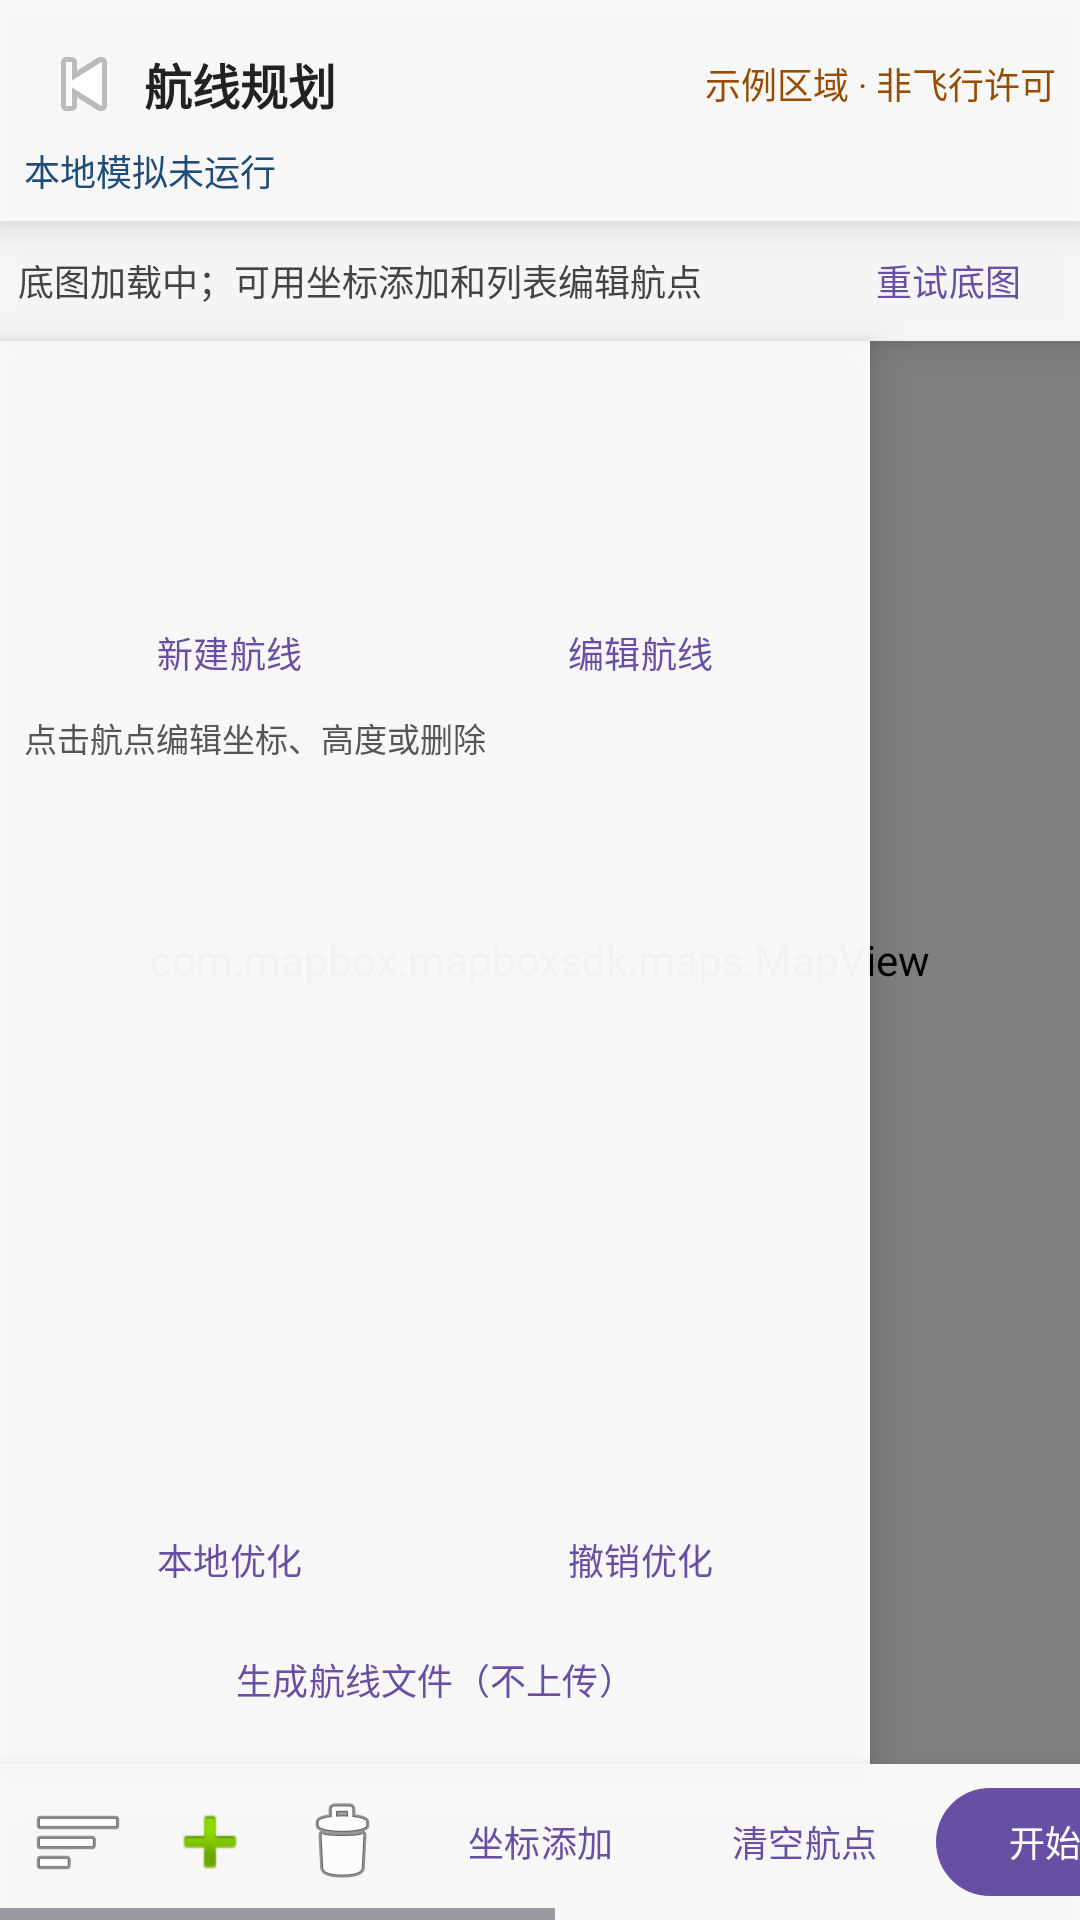

Icons on this 1080w x 1920h Android screen, each with the point to tap as [x,y]:
删除最后一个航点: [342,1840]
显示或隐藏航线列表: [78,1842]
返回首页: [84,84]
